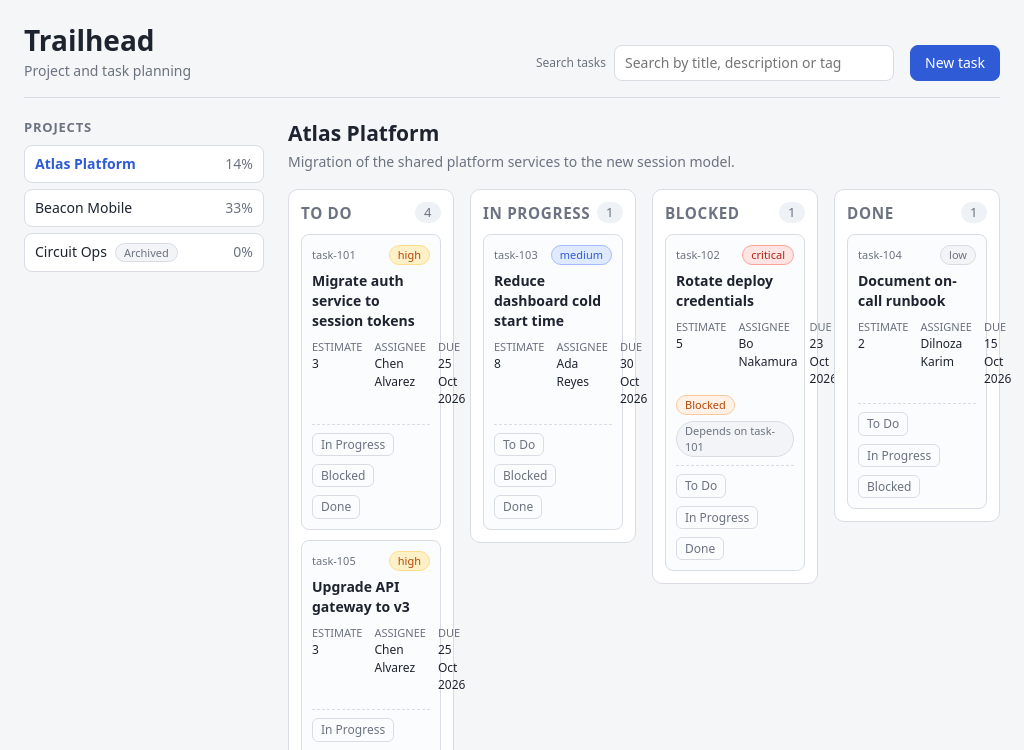
Test case: task search › narrows the board down to the matching tasks once typing settles
Expected: the element with test id "task-card-task-101" is shown, [301,234,441,530]
Type "deploy" into the search field labelled "Search tasks". click: (754, 63)
box: [614,45,894,81]
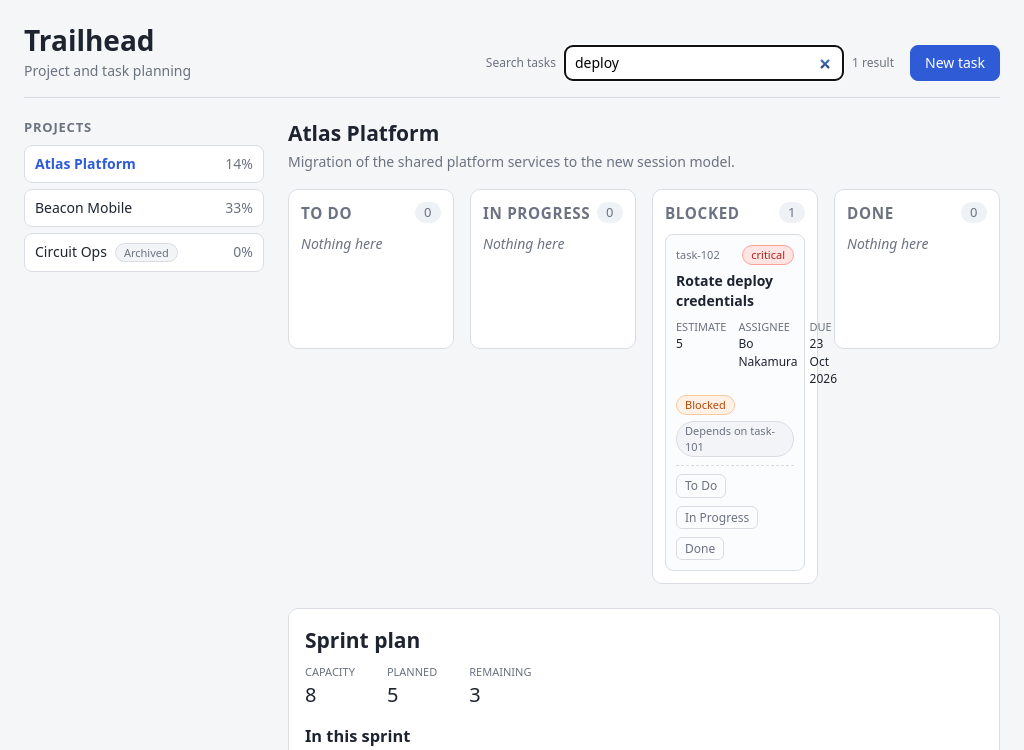
Expected: the element with test id "task-card-task-102" is shown, [665,234,805,571]
Result: the element with test id "task-card-task-101" is gone
